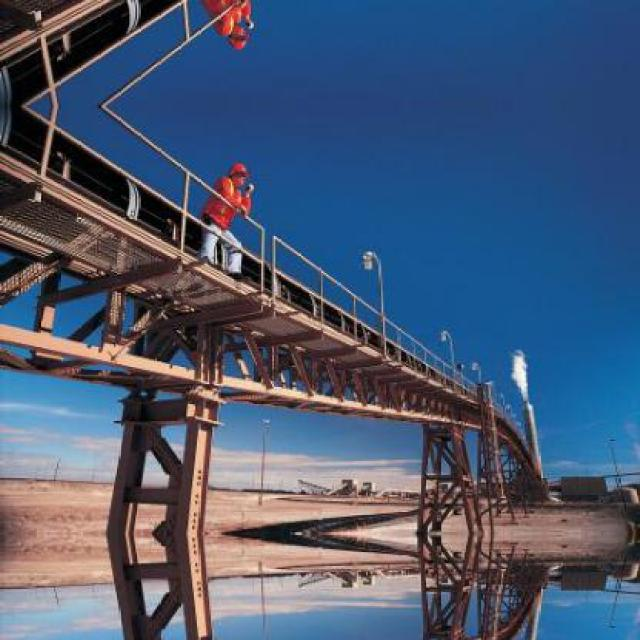helmet: (228, 156, 249, 188), (228, 24, 249, 56)
